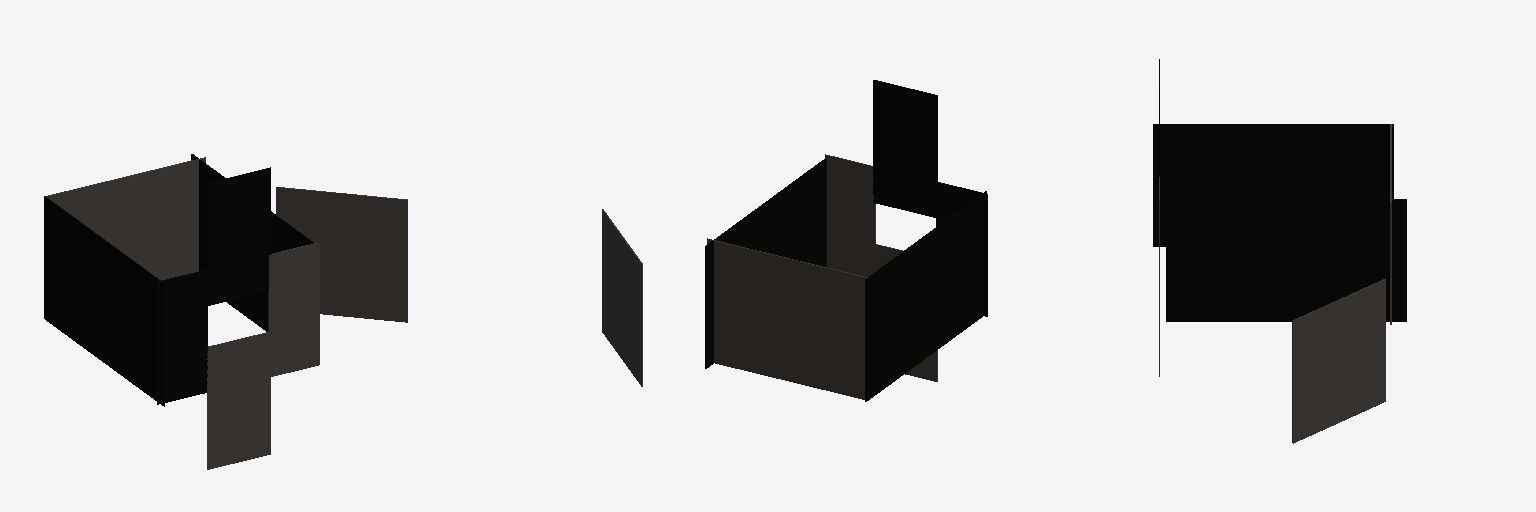
File: surroundings.obj
The picture shows the model from 3 angles: view 1: azimuth 30°, elevation 25°; view 2: azimuth 150°, elevation 25°; view 3: azimuth 270°, elevation 25°; orthographic projection.
Bounding box in the file's own units: 271 × 234 × 187.